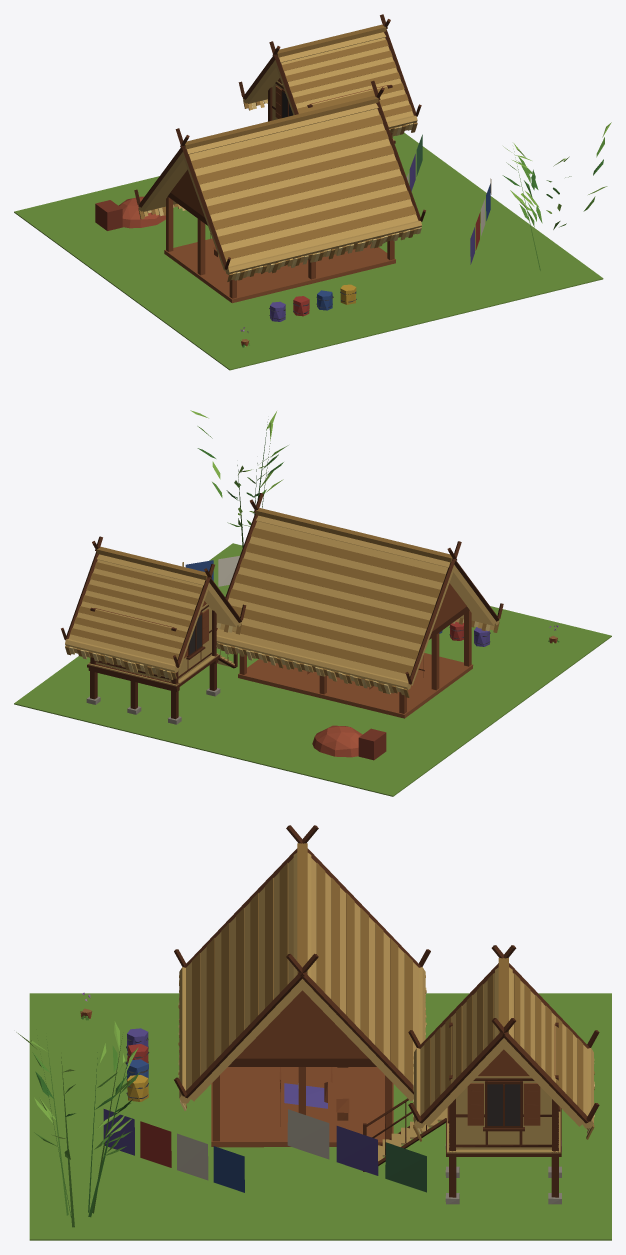
File: factory_1.glb
The picture shows the model from 3 angles, top to bottom: view 1: azimuth 30°, elevation 25°; view 2: azimuth 150°, elevation 25°; view 3: azimuth 270°, elevation 25°; orthographic projection. The views are drawn at different scales.
Visible parts, largest first — view 1: body; view 2: body; view 3: body, windows.
Boxes of the visible parts, x1=… form: body: x1=14, y1=14, x2=611, y2=370; body: x1=14, y1=410, x2=611, y2=796; body: x1=16, y1=825, x2=611, y2=1240; windows: x1=487, y1=1084, x2=520, y2=1125.
Bounding box in the file's own units: 16.99 × 6.35 × 16.33.
